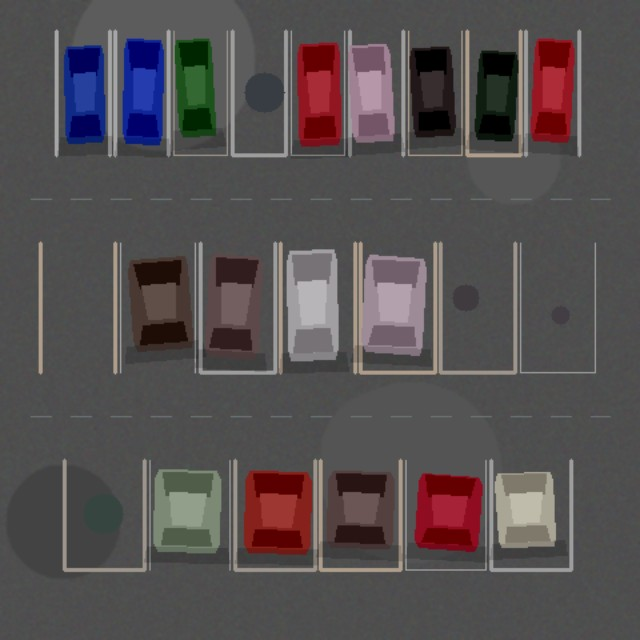space-empty: (40, 243, 115, 372), (440, 243, 515, 372), (520, 243, 595, 372), (64, 460, 144, 569), (232, 31, 285, 155)
space-occupied: (120, 243, 195, 372), (200, 243, 275, 372), (280, 243, 355, 372), (360, 243, 435, 372), (149, 460, 229, 569), (235, 460, 315, 569), (320, 460, 400, 569), (405, 460, 485, 569), (491, 460, 571, 569), (173, 31, 227, 155), (349, 31, 403, 155), (525, 31, 579, 155), (56, 31, 109, 155), (115, 31, 168, 155), (291, 31, 344, 155), (408, 31, 461, 155), (467, 31, 520, 155)
